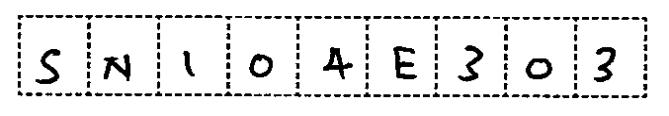0: (520, 51, 556, 86), (244, 49, 276, 81)
1: (174, 46, 207, 79)
3: (585, 42, 623, 87), (453, 38, 488, 86)
4: (317, 40, 356, 85)
E: (386, 40, 423, 88)
N: (99, 51, 138, 88)
S: (32, 44, 65, 88)
